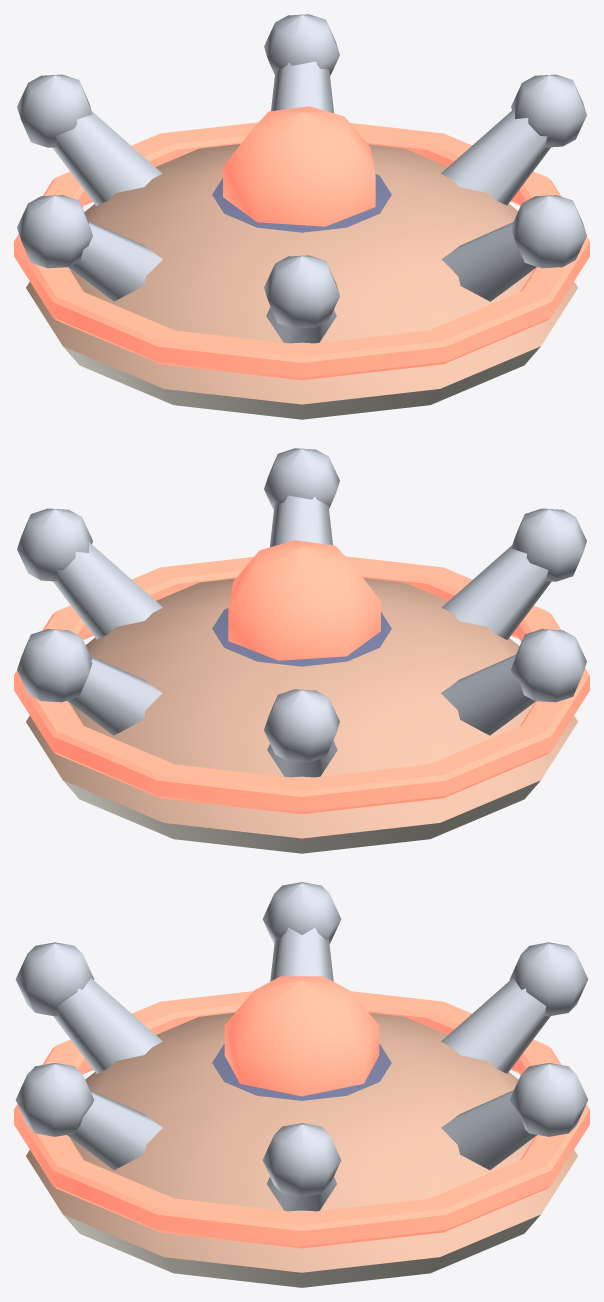
The model's file is R4D_ExplosiveTrap_LOD1.fbx.
3 renders of one model, top to bottom at view 1: azimuth 30°, elevation 25°; view 2: azimuth 150°, elevation 25°; view 3: azimuth 270°, elevation 25°, orthographic.
Visible parts, largest first — view 1: R4D_ExplosiveTrap_LOD1; view 2: R4D_ExplosiveTrap_LOD1; view 3: R4D_ExplosiveTrap_LOD1.
Part boxes in pixels (bbox=[...]): R4D_ExplosiveTrap_LOD1: bbox=[14, 14, 589, 419]; R4D_ExplosiveTrap_LOD1: bbox=[14, 448, 589, 853]; R4D_ExplosiveTrap_LOD1: bbox=[14, 882, 589, 1287].
Size of the model in its own units: 0.5054 by 0.1708 by 0.4484.
